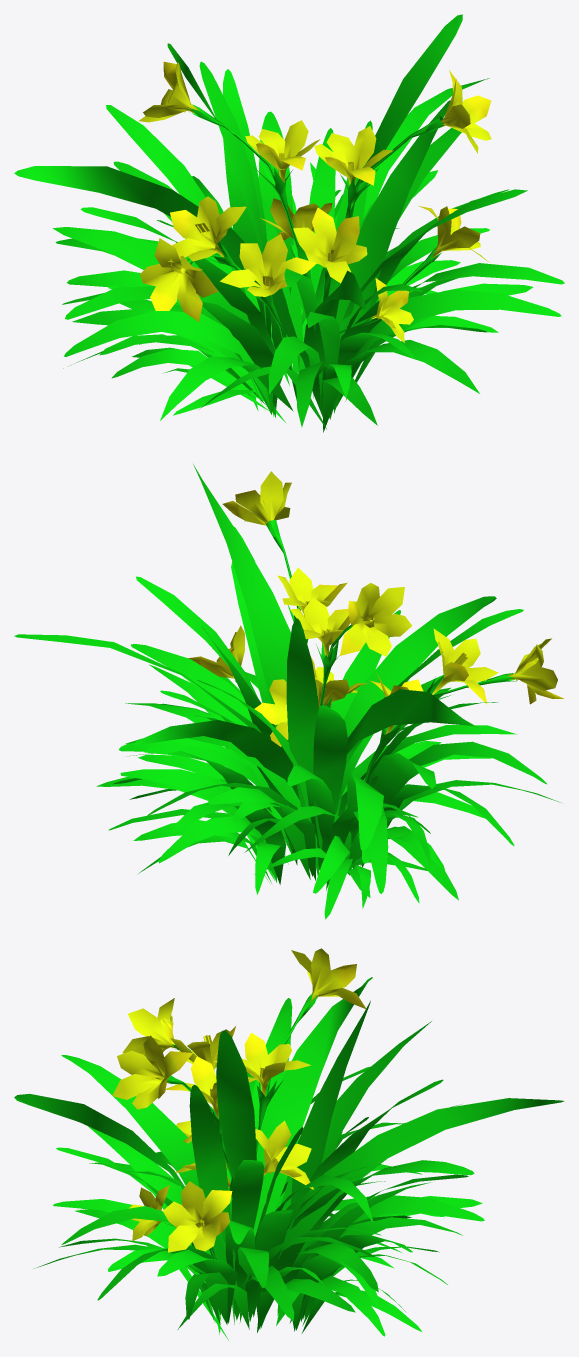
File: Flower.obj
3 renders of one model, top to bottom at view 1: azimuth 30°, elevation 25°; view 2: azimuth 150°, elevation 25°; view 3: azimuth 270°, elevation 25°, orthographic. The views are drawn at different scales.
Parts seen in each view (by area): view 1: WC_Babiana_Blue_Flower; view 2: WC_Babiana_Blue_Flower; view 3: WC_Babiana_Blue_Flower.
Boxes of the visible parts, x1=… form: WC_Babiana_Blue_Flower: x1=14, y1=14, x2=564, y2=432; WC_Babiana_Blue_Flower: x1=14, y1=464, x2=564, y2=919; WC_Babiana_Blue_Flower: x1=14, y1=948, x2=564, y2=1340.
Bounding box in the file's own units: 13.87 × 10.62 × 14.12.
